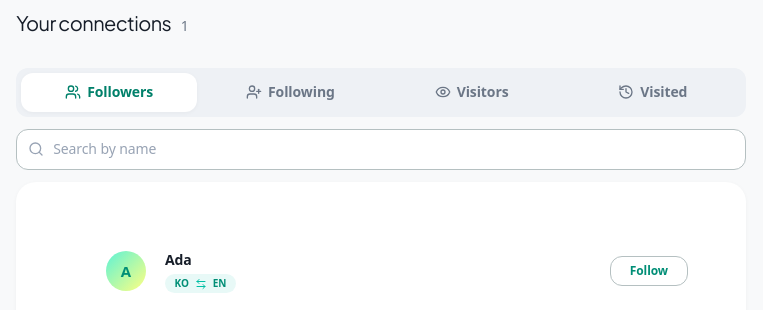
Test: search › says so when the search matches nobody, without claiming the list is empty
Type "zzz" into the search field with test id "list-search". click: (381, 149)
box: [16, 129, 746, 170]
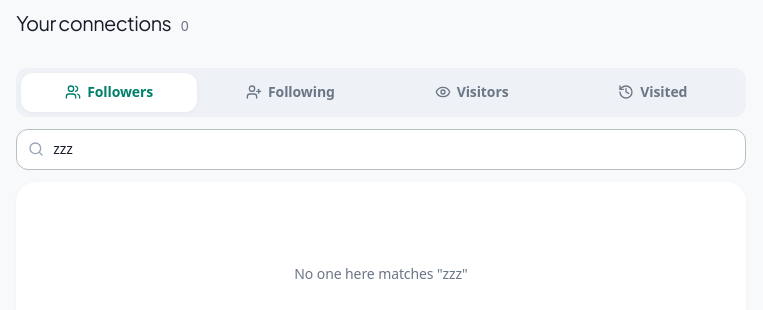
Expected: the text "No one here matches \"zzz\"" is shown, [294, 264, 468, 282]
